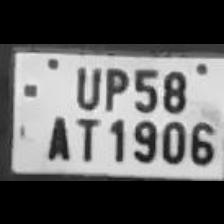0: (158, 116, 187, 162)
1: (101, 112, 127, 162)
5: (127, 62, 158, 110)
6: (185, 115, 217, 165)
8: (158, 64, 188, 112)
9: (127, 114, 156, 162)
A: (40, 109, 72, 161)
P: (98, 62, 130, 112)
T: (71, 110, 103, 160)
U: (69, 61, 101, 108)
